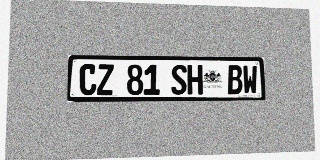1: (144, 64, 160, 95)
8: (127, 64, 143, 95)
B: (227, 65, 243, 94)
C: (79, 64, 97, 95)
H: (187, 65, 203, 95)
S: (171, 65, 187, 95)
W: (242, 65, 258, 94)
Z: (97, 64, 114, 95)
